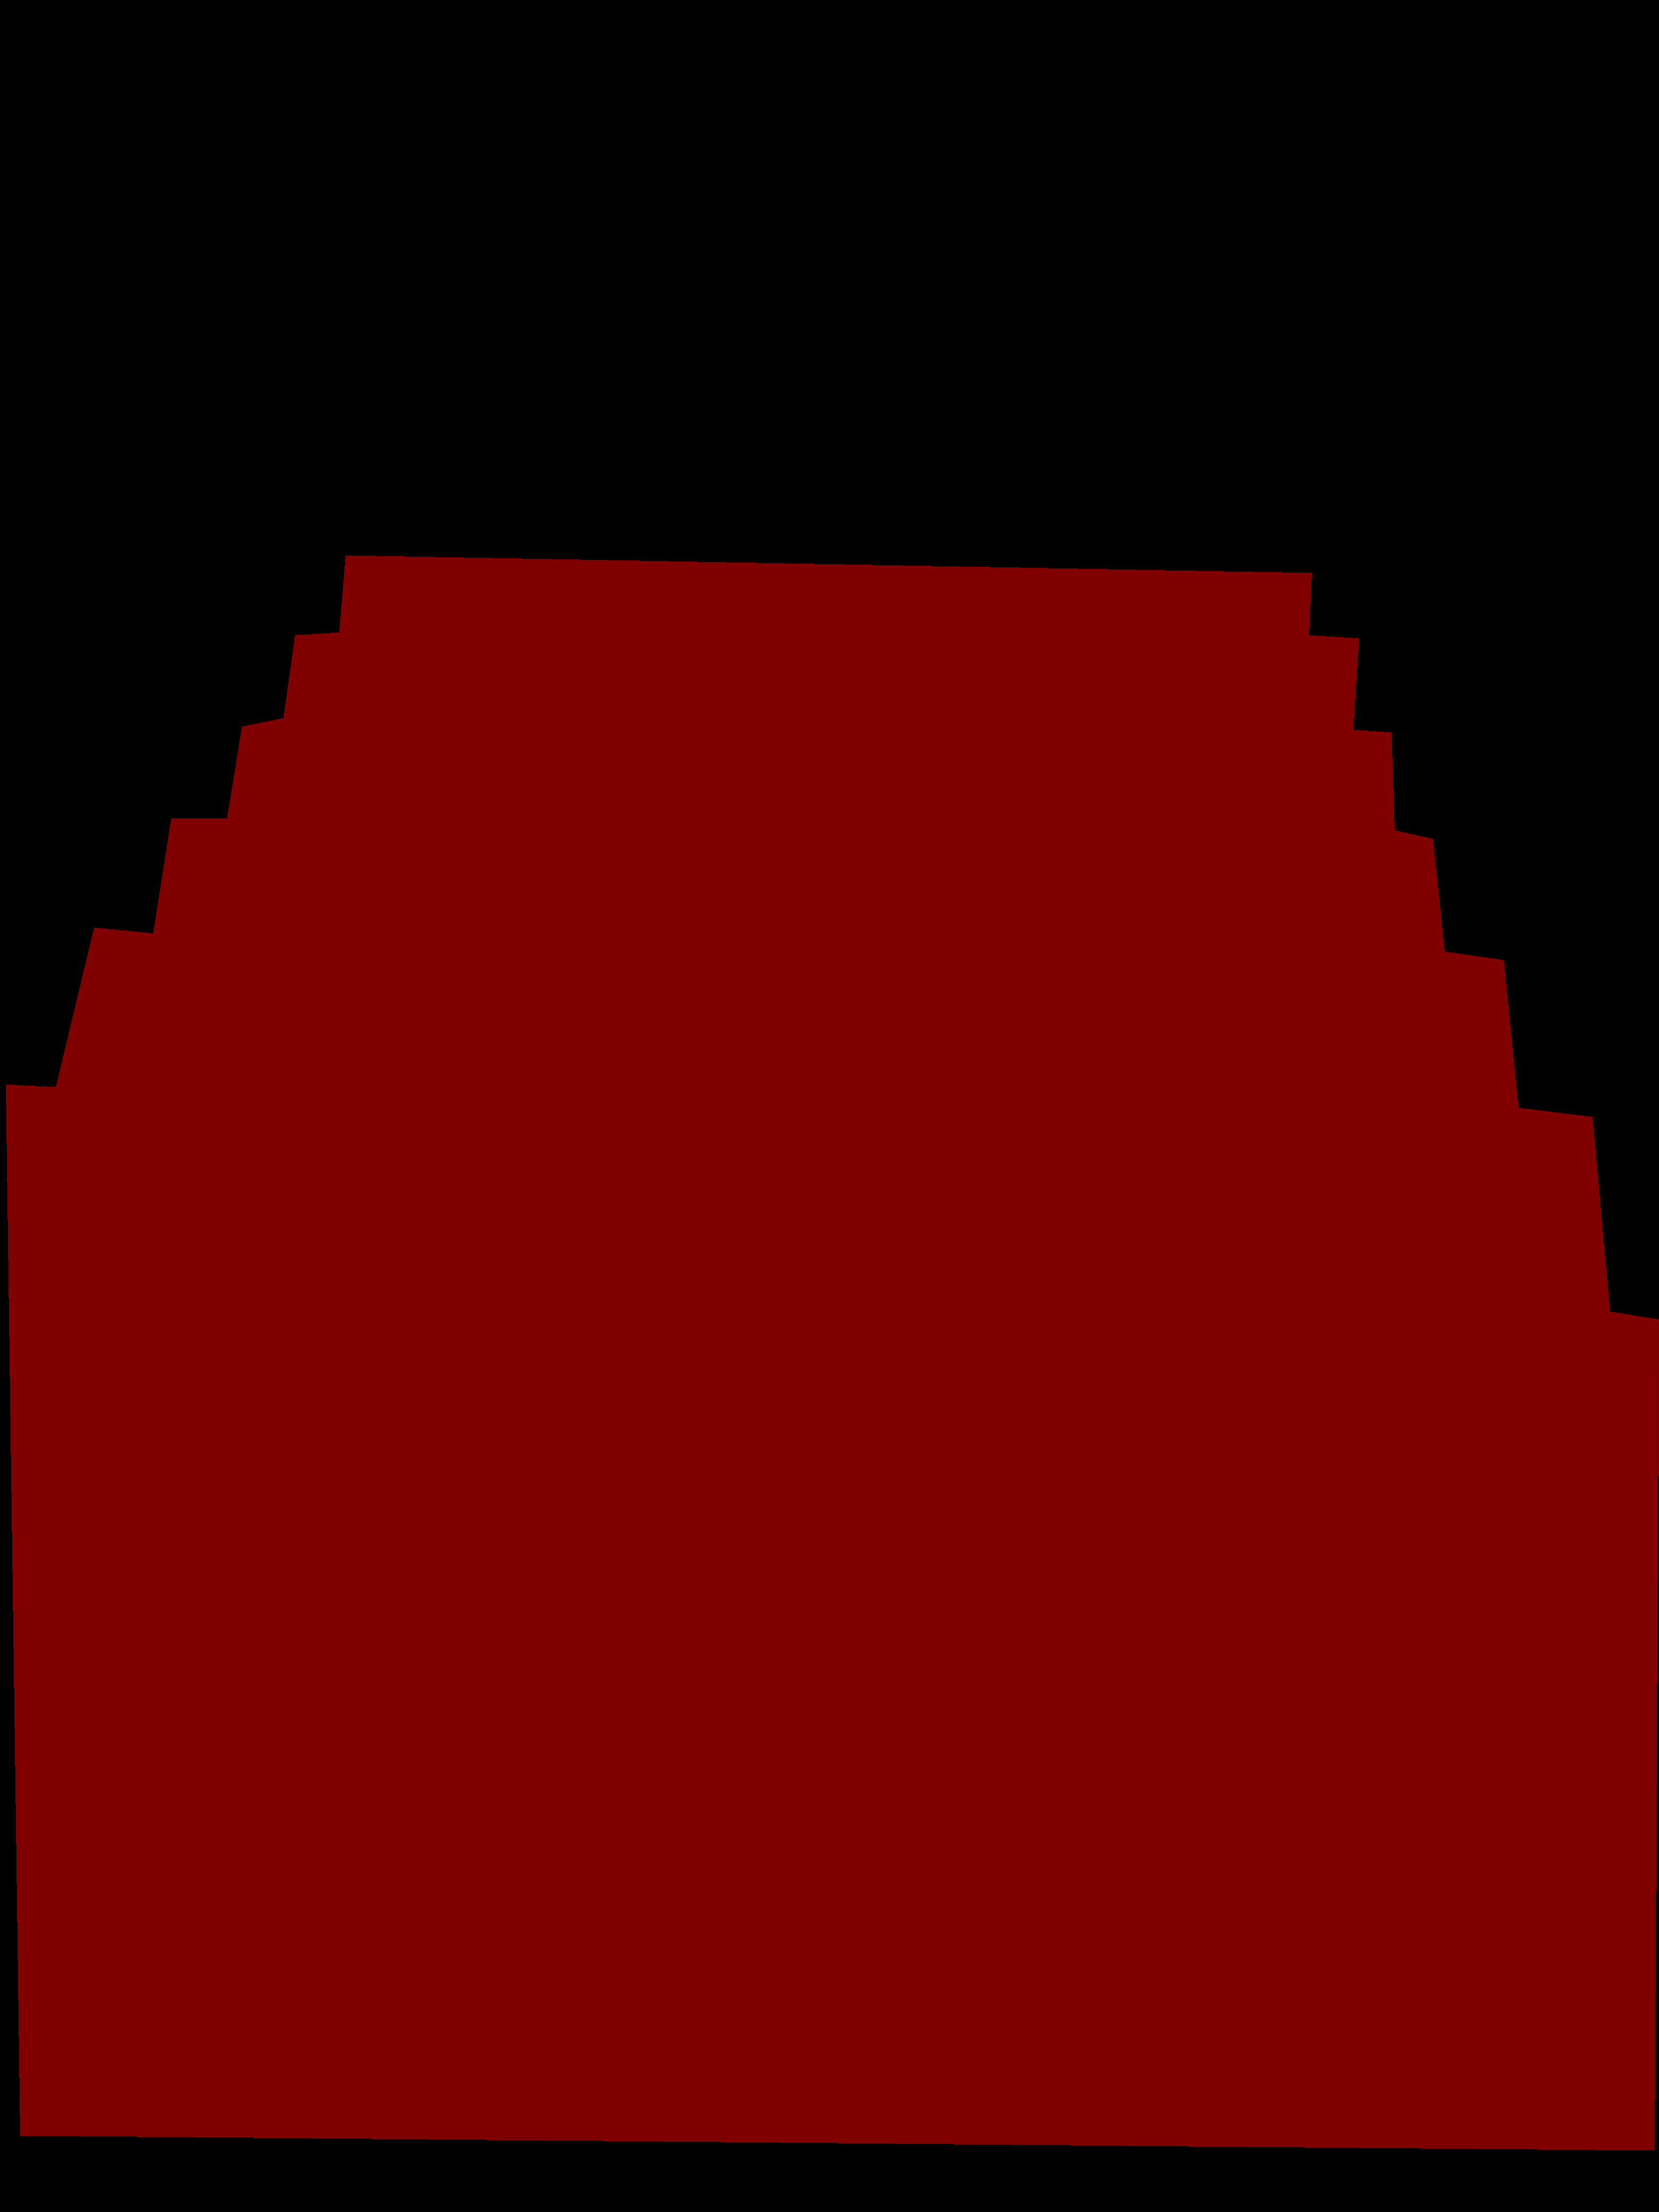stair: (5, 556, 1659, 2151)
